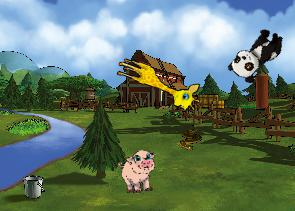giraffe: (110, 55, 205, 114)
panda: (225, 21, 288, 87)
pig: (117, 149, 160, 195)
